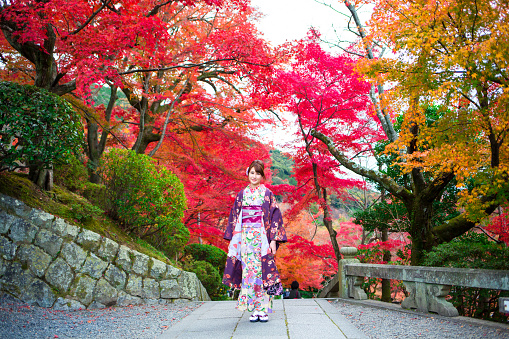em pe: (223, 149, 269, 310)
